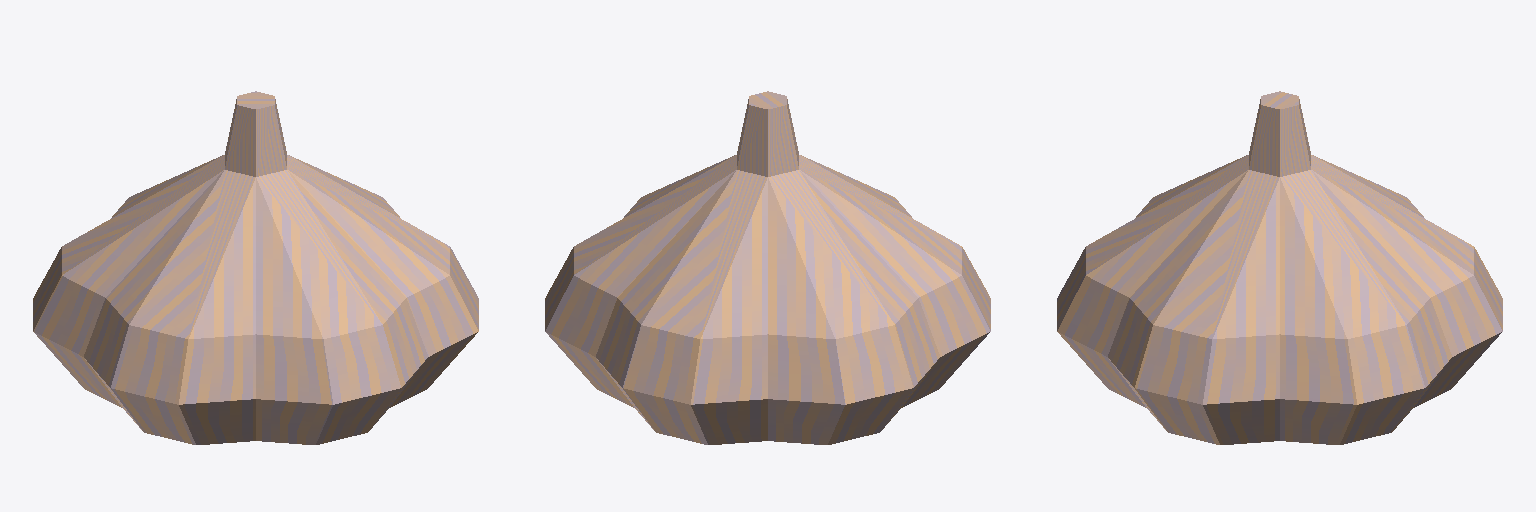
3 views of the same model, side by side, from view 1: azimuth 30°, elevation 25°; view 2: azimuth 150°, elevation 25°; view 3: azimuth 270°, elevation 25° (orthographic).
Parts seen in each view (by area): view 1: skin; view 2: skin; view 3: skin.
Part boxes in pixels (left/top/right/bottom): skin: left=33, top=91, right=478, bottom=444; skin: left=545, top=91, right=990, bottom=444; skin: left=1057, top=91, right=1502, bottom=444.
Size of the model in its own units: 0.6578 by 0.5307 by 0.6894.
1 materials, 1 textured.